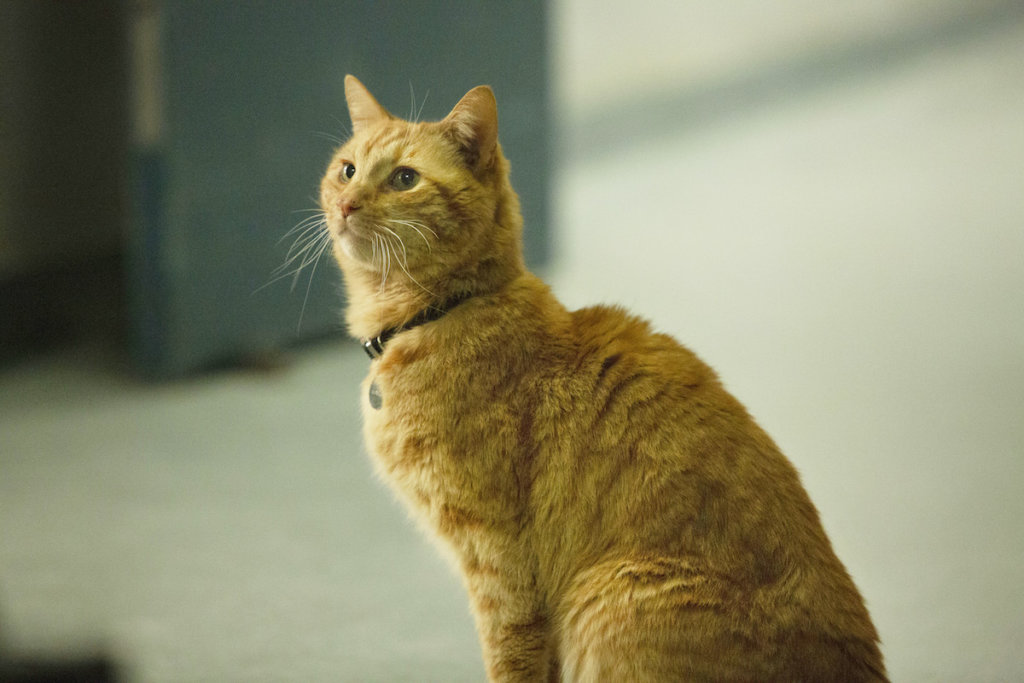cat: (313, 66, 903, 671)
